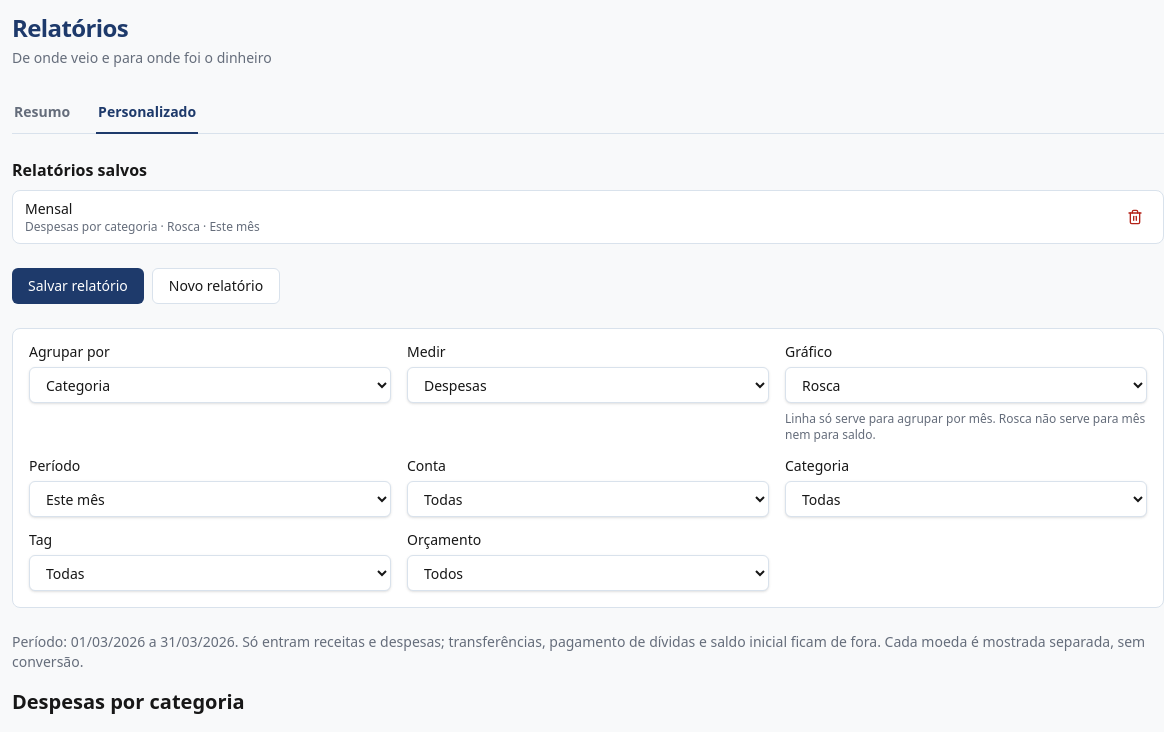
Test: mudar algo num relatorio aberto avisa que ha mudancas nao salvas
Step 1. Click the button with aria-label "Abrir Mensal" → (49, 208), box [25,199,1111,235]
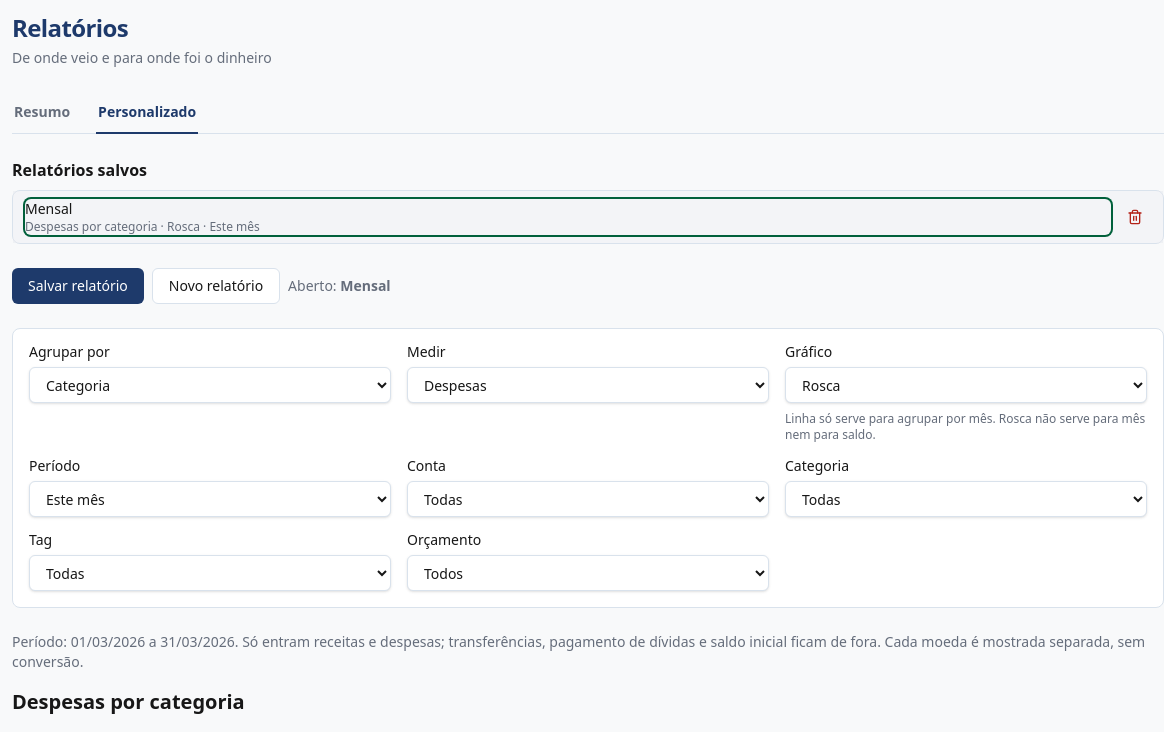
Step 2. Select "Receitas" in the dropdown labelled "Medir" → (588, 385), box [407,367,769,403]
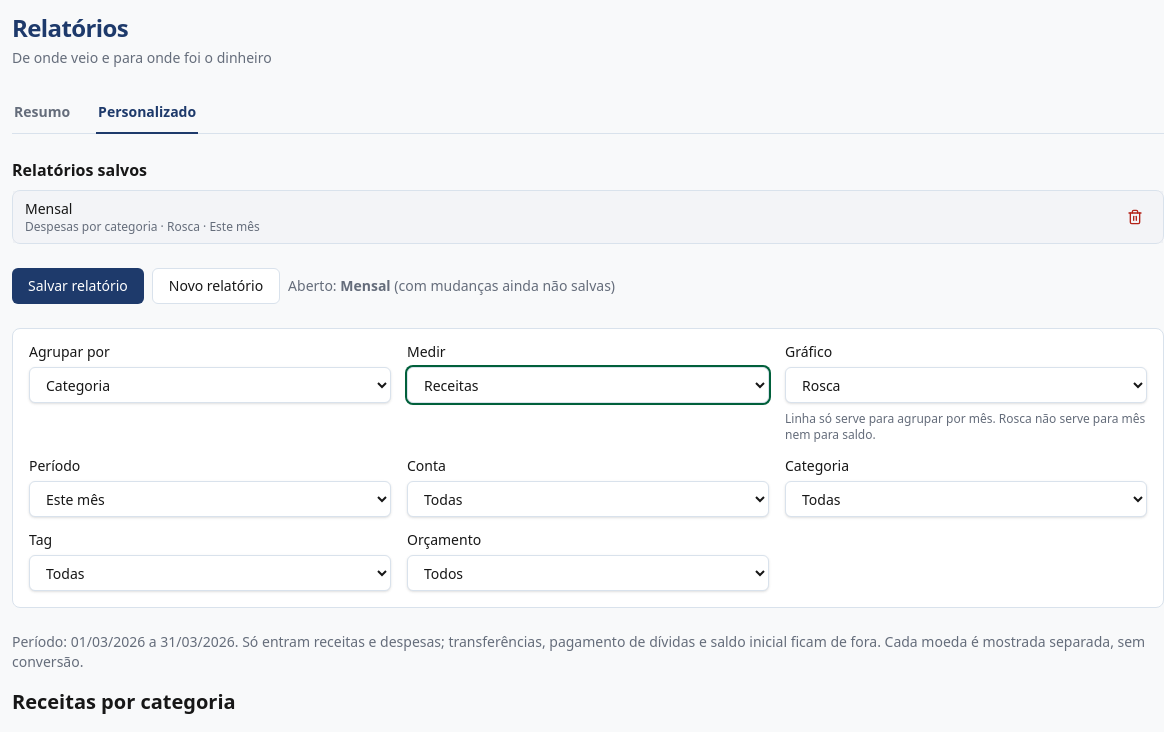
Expected: the text "Aberto: Mensal (com mudanças ainda não salvas)" is shown, [288,276,615,296]
Step 3. Select "Despesas" in the dropdown labelled "Medir" → (588, 385), box [407,367,769,403]
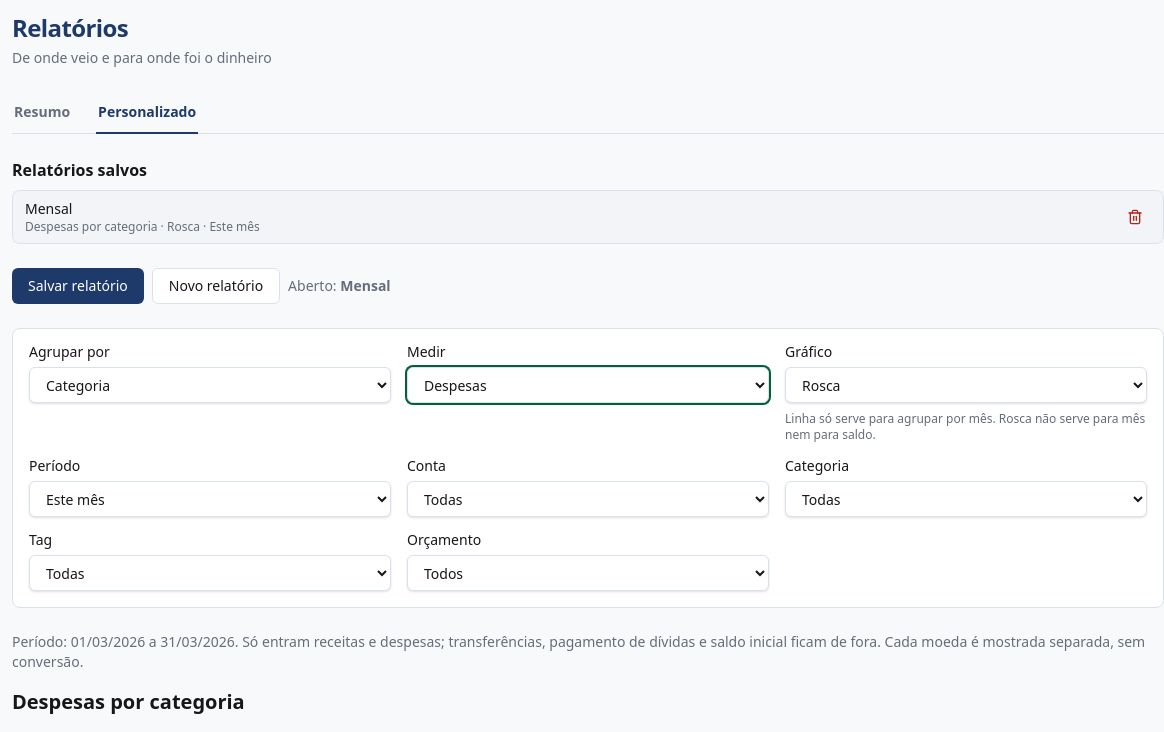
Expected: the text "com mudanças ainda não salvas" is gone
